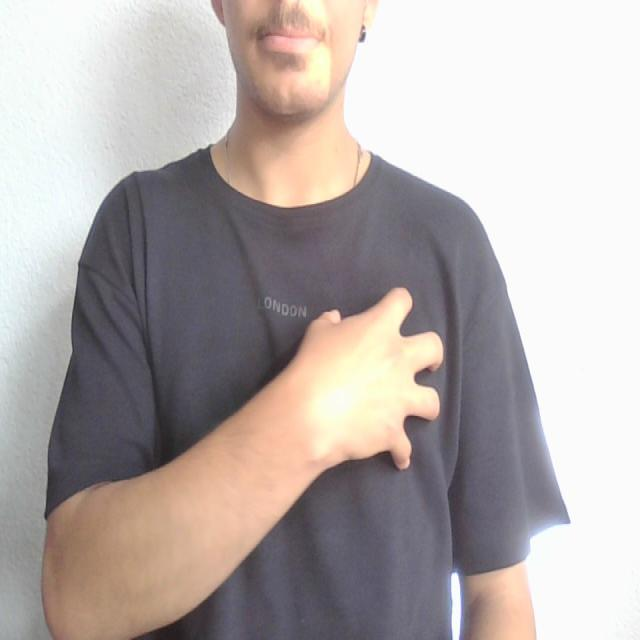Anne: (119, 265, 479, 517)
